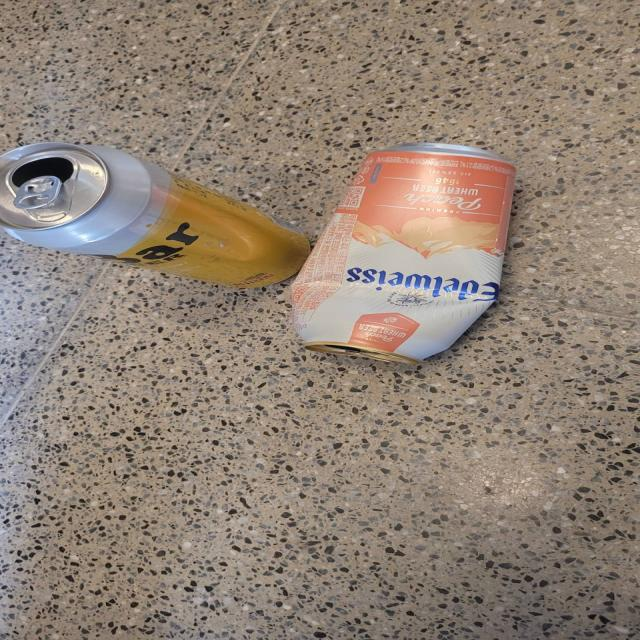Metal Cans: (272, 136, 539, 367), (0, 139, 342, 290)
